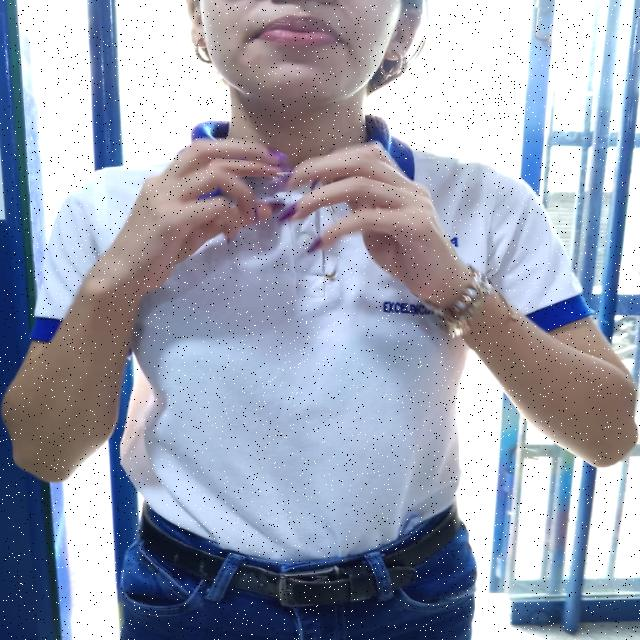uniforme_superior: (30, 113, 594, 562)
